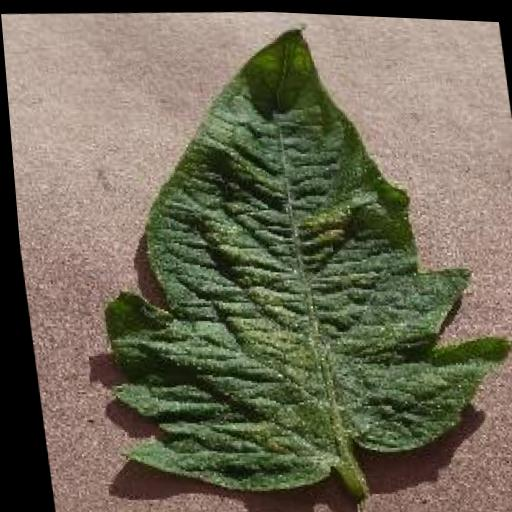Spider Mites: (59, 5, 512, 512)
